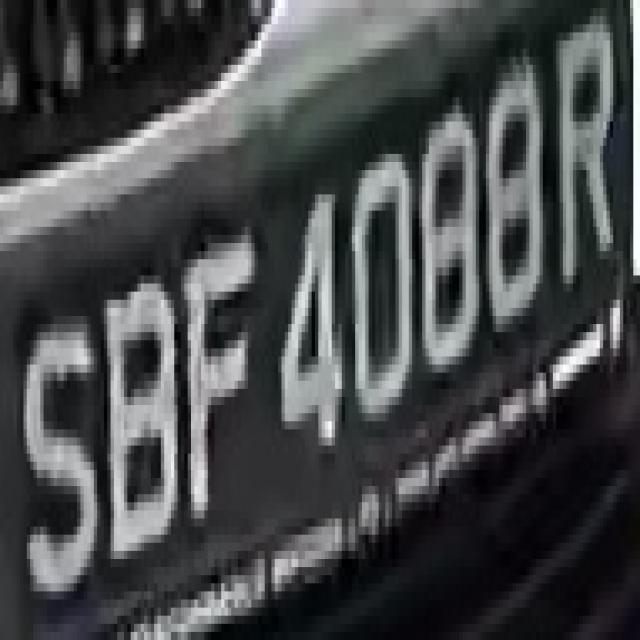0: (348, 130, 419, 462)
4: (275, 178, 348, 470)
8: (472, 41, 550, 324), (416, 113, 489, 381)
B: (97, 276, 181, 567)
F: (181, 235, 261, 527)
R: (556, 8, 623, 284)
S: (16, 308, 100, 591)
